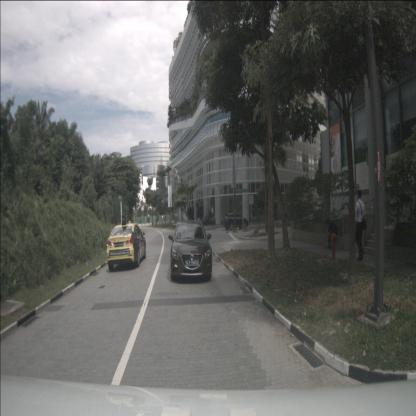human-pedestrian-adult: (354, 189, 366, 261), (326, 218, 338, 250), (202, 216, 204, 227), (198, 217, 200, 227)
vehicle-car: (170, 219, 212, 283), (106, 222, 146, 272), (223, 212, 249, 230)
